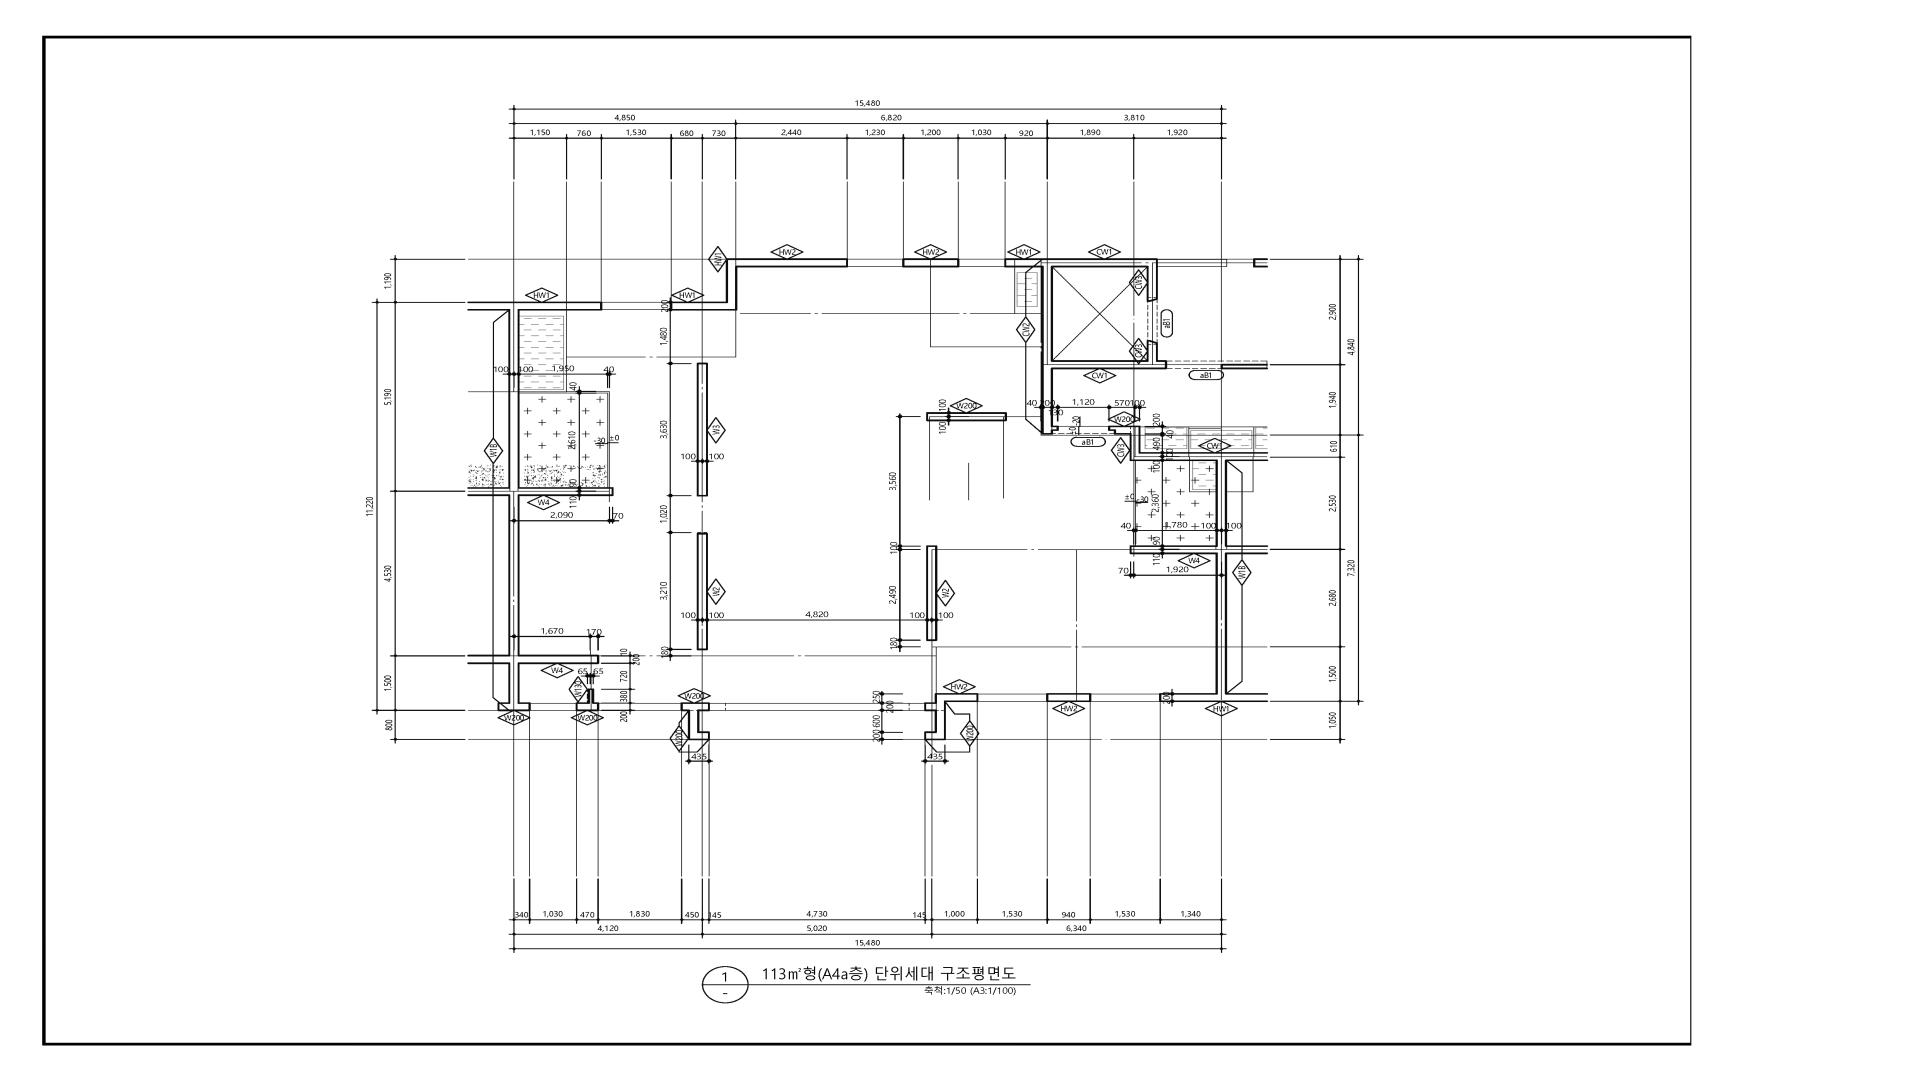wall: (508, 311, 520, 487), (508, 496, 520, 654), (1216, 554, 1228, 694), (696, 363, 708, 496), (696, 533, 708, 650), (1040, 268, 1054, 360), (926, 546, 938, 641), (1054, 360, 1167, 369), (737, 258, 848, 268), (1216, 462, 1228, 546), (1054, 258, 1158, 268), (520, 487, 613, 496), (1040, 369, 1054, 434), (520, 654, 599, 665), (1130, 452, 1216, 462), (520, 302, 603, 311), (1130, 546, 1216, 554), (926, 413, 1006, 421), (725, 258, 737, 310), (1159, 694, 1216, 703), (902, 258, 959, 268), (670, 302, 725, 311), (508, 665, 520, 703), (468, 654, 509, 665), (1046, 692, 1092, 702), (935, 694, 978, 703), (1226, 545, 1269, 554), (468, 302, 509, 311), (467, 487, 508, 496), (1228, 452, 1269, 462), (1147, 268, 1158, 302), (1005, 258, 1040, 268), (935, 702, 945, 732), (1228, 694, 1267, 702), (687, 711, 700, 732), (1130, 426, 1141, 452), (497, 703, 530, 711), (1221, 364, 1267, 369), (680, 703, 709, 711), (1147, 340, 1158, 360), (1108, 426, 1130, 435), (688, 731, 709, 740), (576, 703, 599, 711), (924, 732, 945, 740), (1253, 258, 1267, 268), (508, 654, 520, 665), (1040, 360, 1054, 369), (508, 487, 520, 496), (1216, 545, 1228, 554), (1216, 452, 1228, 462), (509, 302, 520, 311), (924, 703, 935, 712), (588, 688, 595, 703), (1216, 694, 1228, 702), (1054, 426, 1059, 431)
